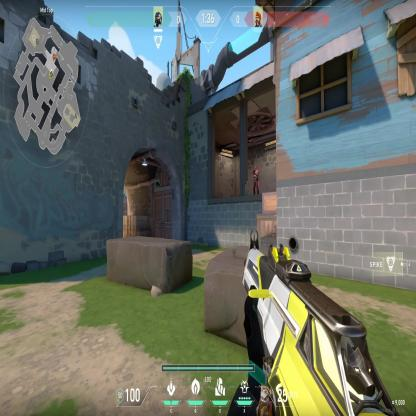enemy: (252, 163, 260, 197)
